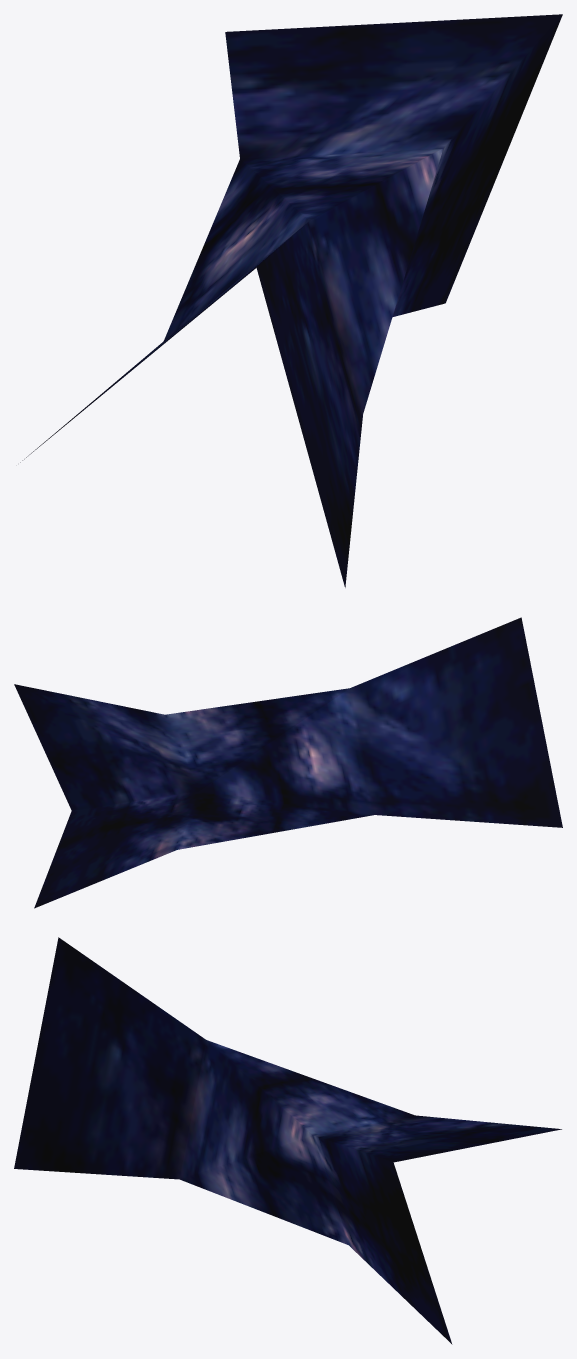
3 views of the same model, one above another, from view 1: azimuth 30°, elevation 25°; view 2: azimuth 150°, elevation 25°; view 3: azimuth 270°, elevation 25° (orthographic). The views are drawn at different scales.
Visible parts, largest first — view 1: Object11; view 2: Object11; view 3: Object11.
Boxes of the visible parts, <box> form: Object11: <box>20,14,562,587</box>; Object11: <box>14,617,562,908</box>; Object11: <box>14,937,561,1344</box>.
Size of the model in its own units: 3865 by 1899 by 3806.
1 material, 1 textured.
